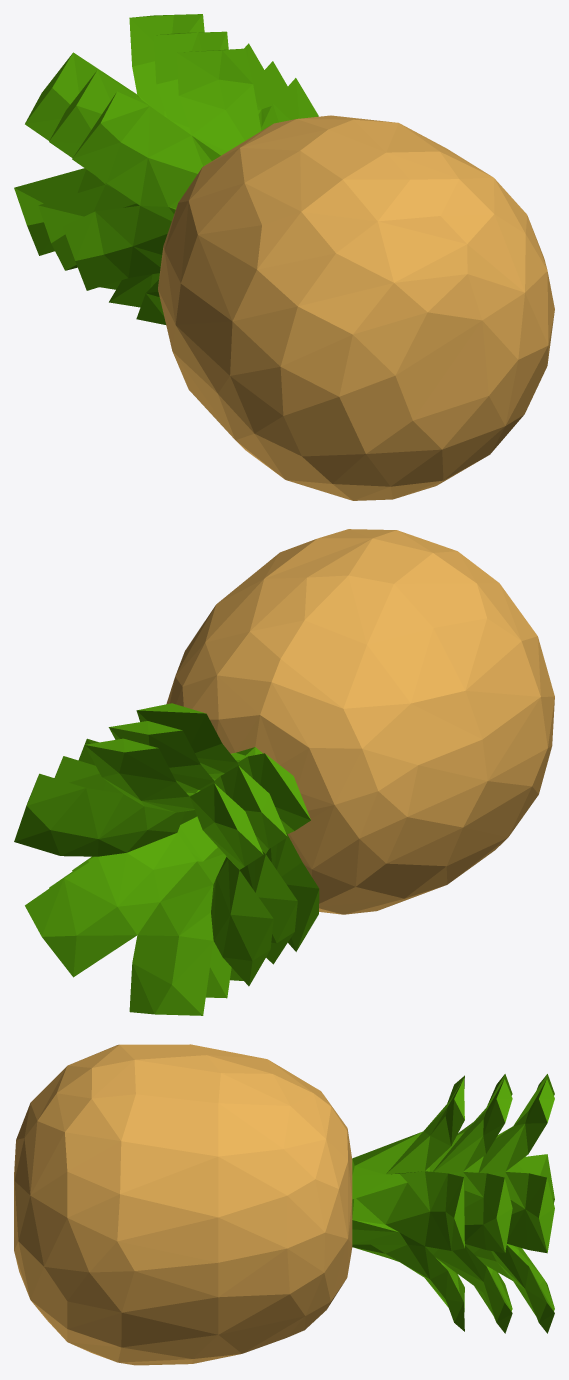
3 renders of one model, top to bottom at view 1: azimuth 30°, elevation 25°; view 2: azimuth 150°, elevation 25°; view 3: azimuth 270°, elevation 25°, orthographic. The views are drawn at different scales.
Parts seen in each view (by area): view 1: 零件10; view 2: 零件10; view 3: 零件10.
Part boxes in pixels (left/top/right/bottom): 零件10: left=14, top=14, right=554, bottom=500; 零件10: left=14, top=529, right=554, bottom=1015; 零件10: left=14, top=1044, right=554, bottom=1365.
Bounding box in the file's own units: 7617 × 7683 × 12780.
